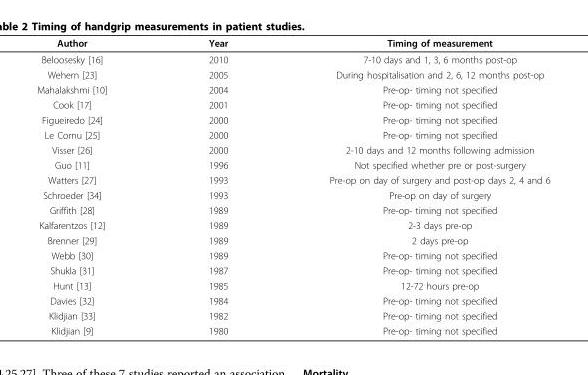table: (36, 36, 549, 336)
table column: (278, 36, 549, 336), (36, 36, 157, 336), (157, 36, 278, 336)
table column header: (36, 36, 549, 50)
table row: (36, 50, 549, 66), (36, 96, 549, 112), (36, 66, 549, 81), (36, 81, 549, 96), (36, 112, 549, 127), (36, 127, 549, 142), (36, 142, 549, 157), (36, 157, 549, 172), (36, 172, 549, 187), (36, 187, 549, 202), (36, 202, 549, 217), (36, 217, 549, 232), (36, 232, 549, 247), (36, 247, 549, 262), (36, 262, 549, 277), (36, 277, 549, 292), (36, 292, 549, 307), (36, 307, 549, 322), (36, 36, 549, 50), (36, 322, 549, 336)
